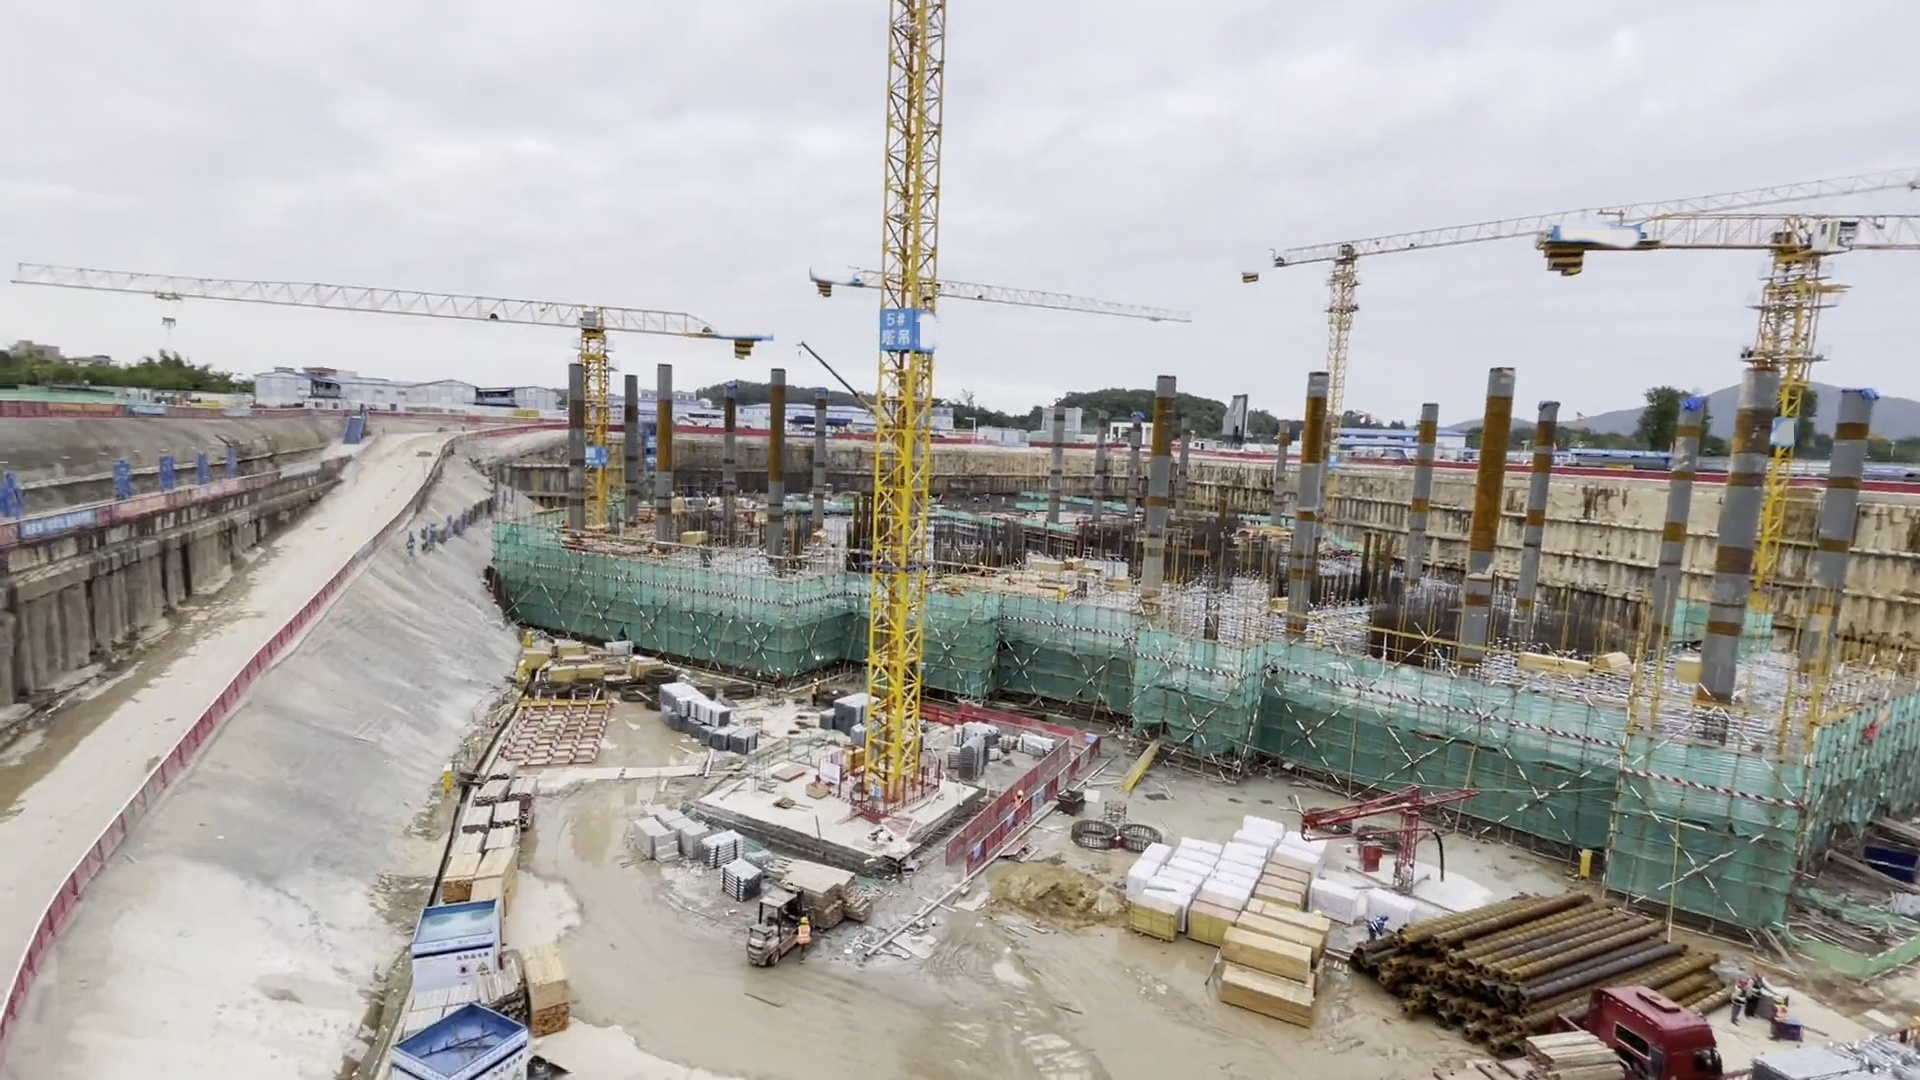board: (1259, 852, 1312, 906), (1187, 886, 1238, 941), (1129, 895, 1182, 944)
helmet: (1738, 975, 1748, 985), (797, 917, 810, 924), (1773, 995, 1784, 1004), (1016, 790, 1025, 797), (1379, 915, 1389, 921), (815, 681, 820, 687), (776, 668, 780, 672)
person: (793, 917, 817, 966), (1731, 975, 1748, 1031), (1749, 968, 1765, 1020), (1770, 994, 1786, 1043), (1366, 913, 1390, 941), (772, 666, 782, 688), (1012, 790, 1023, 808), (812, 679, 820, 705)
vest: (798, 926, 811, 945), (1369, 918, 1385, 933), (1013, 797, 1022, 810)
wood: (1235, 900, 1329, 1021), (520, 946, 572, 1037)
